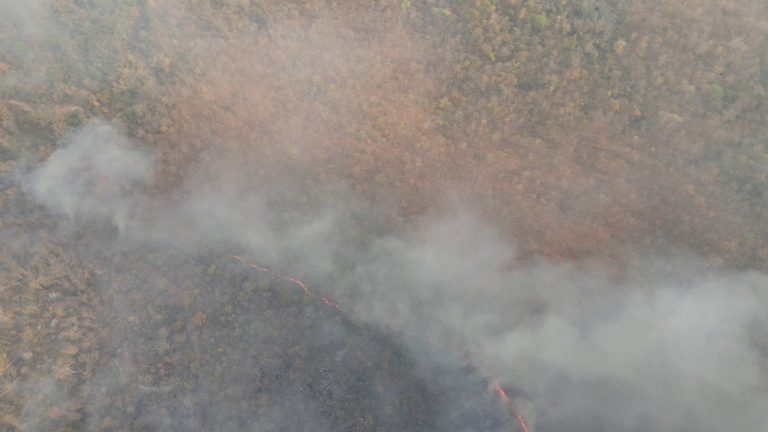fire: (233, 251, 344, 317), (487, 373, 542, 432)
smoke: (375, 226, 768, 432), (49, 123, 350, 278)
